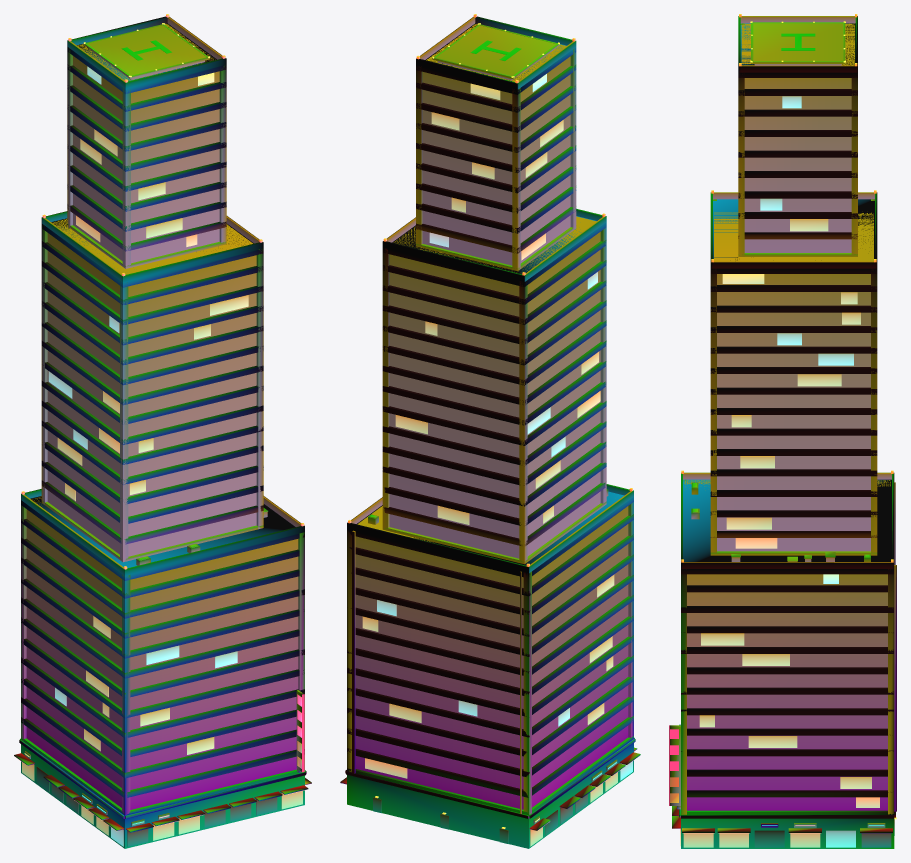
Rendered from Tower_Spire_V5.fbx.
The picture shows the model from 3 angles, left to right: view 1: azimuth 30°, elevation 25°; view 2: azimuth 150°, elevation 25°; view 3: azimuth 270°, elevation 25°; orthographic projection. The views are drawn at different scales.
Parts seen in each view (by area): view 1: Tower_Spire_V5_LOD0; view 2: Tower_Spire_V5_LOD0; view 3: Tower_Spire_V5_LOD0.
Part boxes in pixels (x1=…): Tower_Spire_V5_LOD0: x1=14, y1=14, x2=311, y2=848; Tower_Spire_V5_LOD0: x1=340, y1=14, x2=640, y2=848; Tower_Spire_V5_LOD0: x1=669, y1=14, x2=896, y2=848.
Size of what is drawn, in the model's own units: 36.8 by 134 by 36.31.
